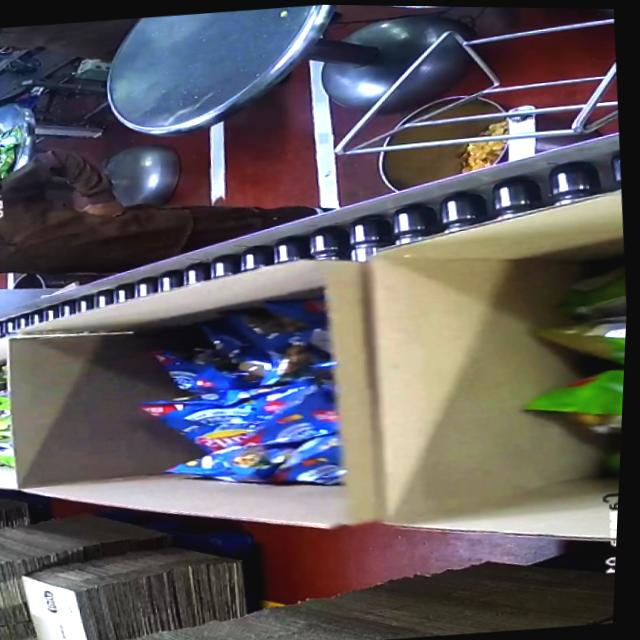PAPRIKA: (138, 296, 357, 508)
